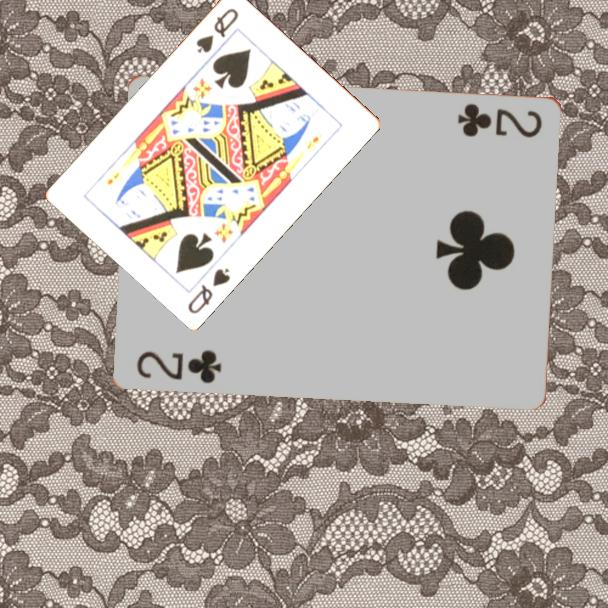c02: (455, 99, 546, 140), (134, 346, 225, 386)
s12: (192, 4, 242, 56), (184, 264, 233, 316)
